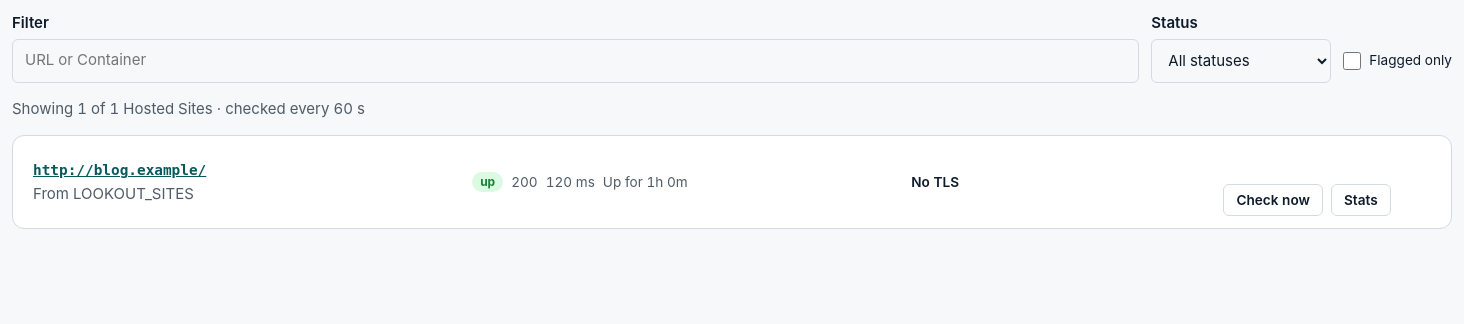
SiteList › Check now posts the Hosted Site ID, never its URL, and shows a refusal
Click the button named "Check now: http://blog.example/": (1273, 200) [1223,184,1323,216]
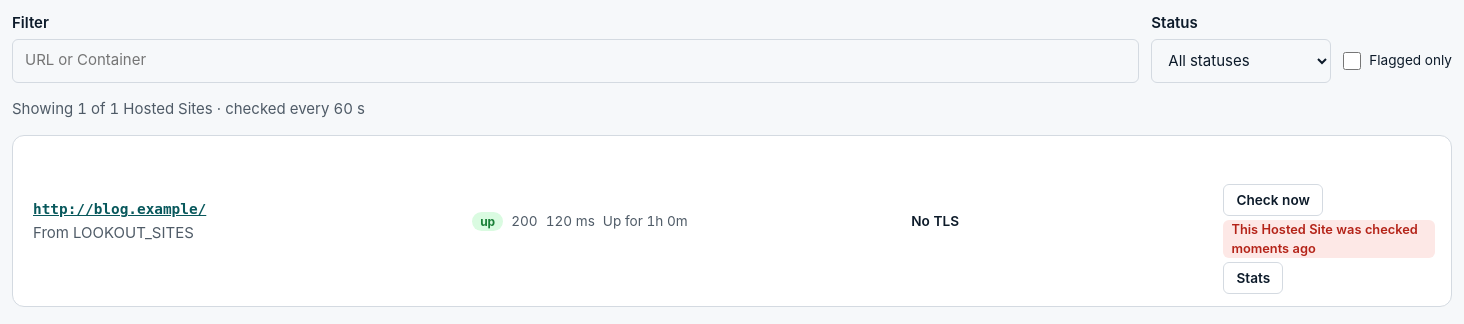
Expected: the message with test id "site-check-error" reads "This Hosted Site was checked moments ago", [1231,222,1418,256]
